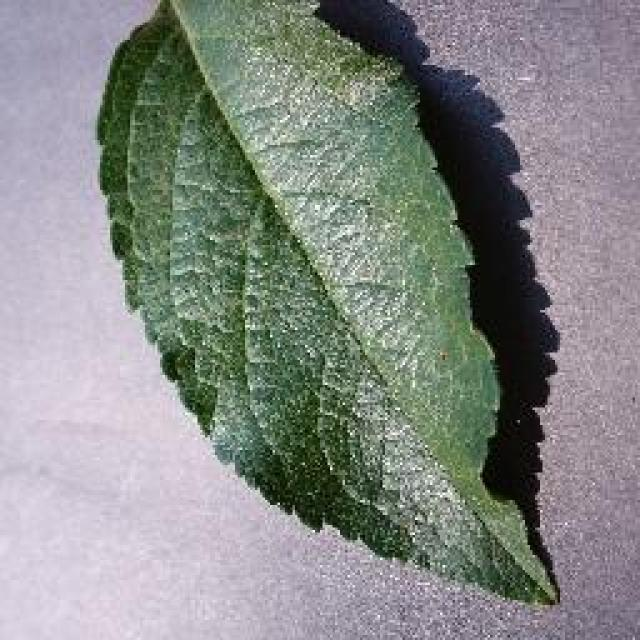apple healthy: (93, 0, 565, 608)
